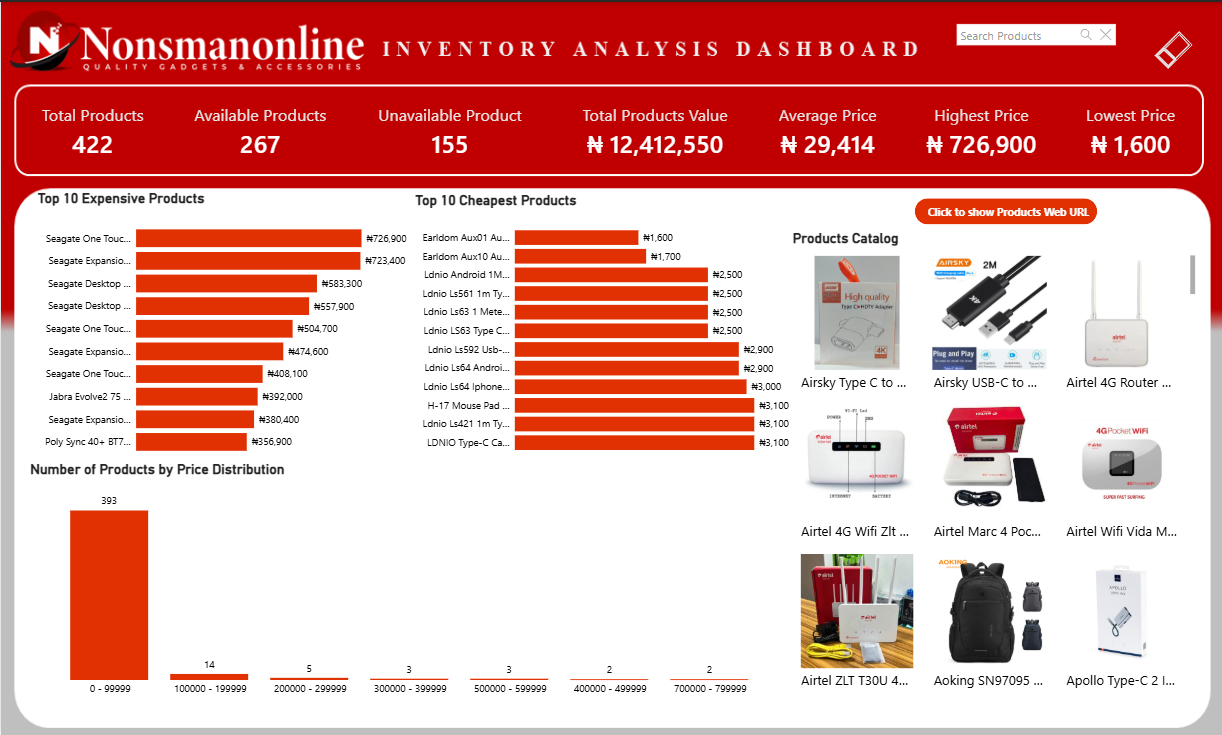

Layout of this report page (visuals, bound fields, positions):
{"tool":"powerbi","page":{"name":"Nonsmanonline","canvas":[2000,1200],"ordinal":0},"visuals":[{"type":"actionButton","box":[1870.8,42.9,94.9,72.3],"z":0},{"type":"group","id":"g1","title":"Nons","box":[26.3,26.6,1932,1119.5],"z":1000},{"type":"clusteredBarChart","title":"Top 10 Expensive Products","fields":{"Category":["Nonsman.Product Name"],"Y":["Sum(Nonsman.Price)"]},"box":[55.9,306.8,613.5,447.9],"z":1000,"group":"g1"},{"type":"clusteredBarChart","title":"Top 10 Cheapest Products","fields":{"Category":["Nonsman.Product Name"],"Y":["Min(Nonsman.Price)"]},"box":[673.5,310.9,621.7,439.7],"z":2000,"group":"g1"},{"type":"actionButton","box":[1494.9,321.1,298.6,42.9],"z":2000},{"type":"cardVisual","fields":{"Data":["_Metrics.Total Products"]},"box":[26.3,148.1,247.4,128.8],"z":3000,"group":"g1"},{"type":"cardVisual","fields":{"Data":["_Metrics.Unavailable Product"]},"box":[576.3,148.1,317,128.8],"z":3000},{"type":"cardVisual","fields":{"Data":["_Metrics.Average Price"]},"box":[1232.8,148.1,239.3,128.8],"z":4000},{"type":"clusteredColumnChart","title":"Number of Products  by Price Distribution","fields":{"Category":["Nonsman.Price Distribution"],"Y":["CountNonNull(Nonsman.Price)"]},"box":[43,750.7,1253.6,394.7],"z":4000,"group":"g1"},{"type":"cardVisual","fields":{"Data":["_Metrics.Highest Price"]},"box":[1479.2,148.1,251.5,128.8],"z":5000},{"type":"advancedSlicerVisual","title":"Products Catalog ","fields":{"Values":["Nonsman.Product Name"]},"box":[1289.6,373.1,668.7,773],"z":5000,"group":"g1"},{"type":"textSearchSlicerF85E2E78BE4A4D7D9F99ED75B5D71C85","fields":{"fields":["Nonsman.Product Name"]},"box":[1553.7,26.6,280.2,59.3],"z":6000,"group":"g1"},{"type":"cardVisual","fields":{"Data":["_Metrics.Lowest Price"]},"box":[1737.8,148.1,220.9,128.8],"z":6000},{"type":"cardVisual","fields":{"Data":["_Metrics.Available Products"]},"box":[280.8,148.1,288.3,128.8],"z":7000},{"type":"cardVisual","fields":{"Data":["_Metrics.Total Inventory Vaules"]},"box":[895.7,147.2,349.7,128.8],"z":8000}]}

Visuals, with their boxes in screenshot pixels (x1, y1, x2, y2), scaled from the page's 2000x1200 canvas onto the 1222x735 screenshot:
actionButton: [x1=1143, y1=26, x2=1201, y2=71]
"Nons" group: [x1=16, y1=16, x2=1197, y2=702]
"Top 10 Expensive Products" clusteredBarChart: [x1=34, y1=188, x2=409, y2=462]
"Top 10 Cheapest Products" clusteredBarChart: [x1=412, y1=190, x2=791, y2=460]
actionButton: [x1=913, y1=197, x2=1096, y2=223]
cardVisual - _Metrics.Total Products: [x1=16, y1=91, x2=167, y2=170]
cardVisual - _Metrics.Unavailable Product: [x1=352, y1=91, x2=546, y2=170]
cardVisual - _Metrics.Average Price: [x1=753, y1=91, x2=899, y2=170]
"Number of Products  by Price Distribution" clusteredColumnChart: [x1=26, y1=460, x2=792, y2=702]
cardVisual - _Metrics.Highest Price: [x1=904, y1=91, x2=1057, y2=170]
"Products Catalog " advancedSlicerVisual: [x1=788, y1=229, x2=1197, y2=702]
textSearchSlicerF85E2E78BE4A4D7D9F99ED75B5D71C85 - Nonsman.Product Name: [x1=949, y1=16, x2=1121, y2=53]
cardVisual - _Metrics.Lowest Price: [x1=1062, y1=91, x2=1197, y2=170]
cardVisual - _Metrics.Available Products: [x1=172, y1=91, x2=348, y2=170]
cardVisual - _Metrics.Total Inventory Vaules: [x1=547, y1=90, x2=761, y2=169]
